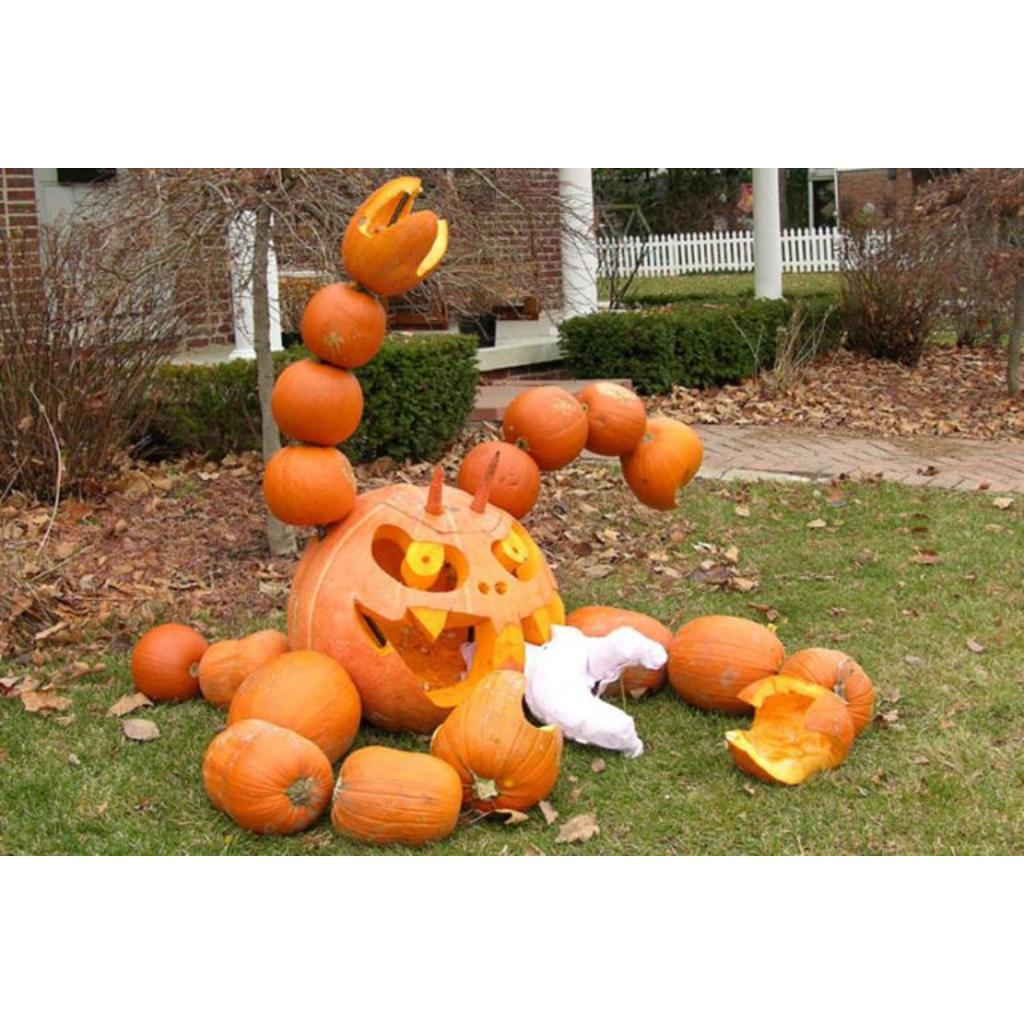pumpkin: (288, 458, 564, 731), (430, 670, 562, 811), (202, 718, 334, 834), (228, 652, 362, 762), (726, 676, 854, 783), (334, 746, 462, 845), (342, 176, 448, 295), (666, 616, 786, 713), (272, 358, 364, 445), (780, 648, 874, 733), (620, 418, 704, 510), (264, 446, 356, 525), (198, 630, 290, 708), (302, 284, 386, 368), (504, 386, 588, 470), (458, 442, 540, 518), (132, 624, 208, 702), (578, 382, 646, 456), (566, 606, 672, 649), (606, 666, 665, 697)
